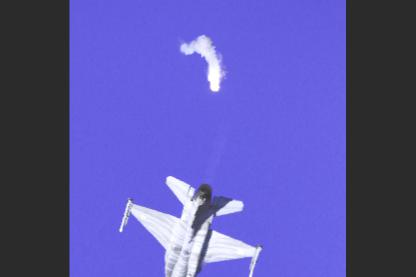F14: (119, 175, 262, 276)
